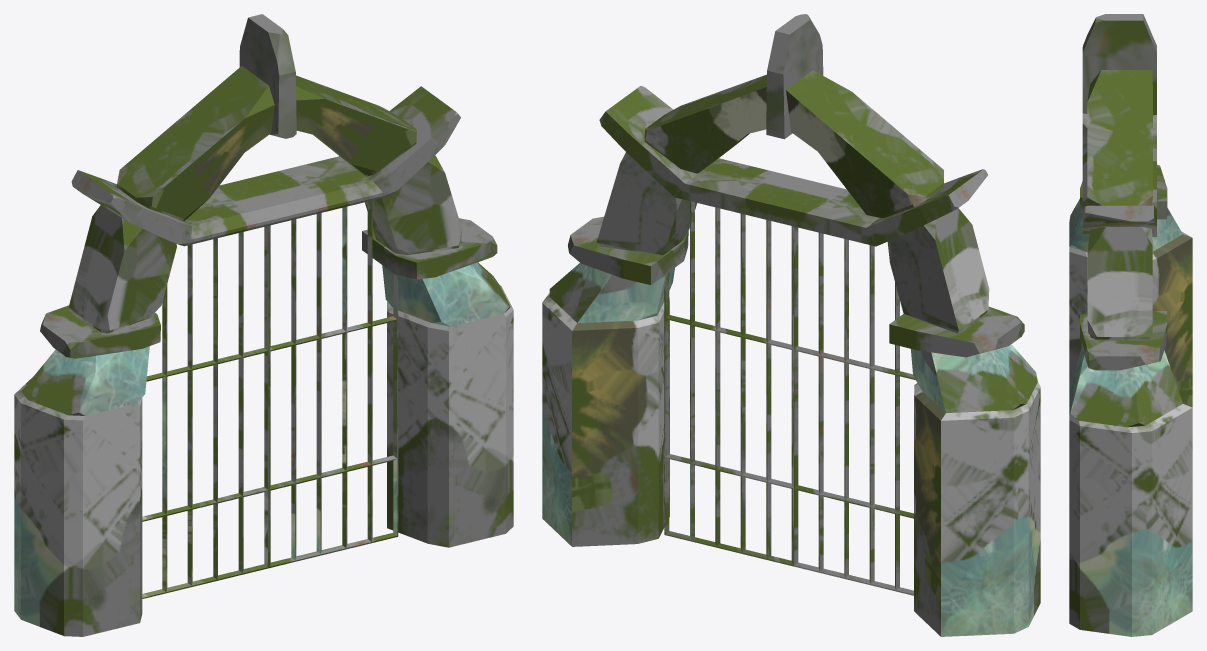
The model's file is Puerta II.fbx.
3 views of the same model, side by side, from view 1: azimuth 30°, elevation 25°; view 2: azimuth 150°, elevation 25°; view 3: azimuth 270°, elevation 25° (orthographic). The views are drawn at different scales.
Parts seen in each view (by area): view 1: Cylinder.005, Plane.001, Cube.002, Cube.003, Cube.001, Cube, Cube.004; view 2: Cylinder.005, Plane.001, Cube.002, Cube.003, Cube.001, Cube, Cube.004; view 3: Cylinder.005, Cube.002, Cube.001, Cube.004, Cube, Cube.003.
Boxes of the visible parts, x1,y1,x2,y2 form: Cylinder.005: (14,262,513,636); Plane.001: (142,200,398,598); Cube.002: (116,66,416,220); Cube.003: (71,86,460,246); Cube.001: (69,155,461,333); Cube: (40,218,497,358); Cube.004: (239,14,296,138); Cylinder.005: (542,263,1040,636); Plane.001: (664,201,915,595); Cube.002: (644,70,943,218); Cube.003: (599,86,987,246); Cube.001: (596,152,989,333); Cube: (568,216,1024,357); Cube.004: (766,14,823,139); Cylinder.005: (1069,199,1192,636); Cube.002: (1087,70,1152,205); Cube.001: (1087,227,1152,339); Cube.004: (1082,14,1156,114); Cube: (1080,164,1167,370); Cube.003: (1082,113,1156,236).
Size of the model in its own units: 382 by 413 by 90.18.
